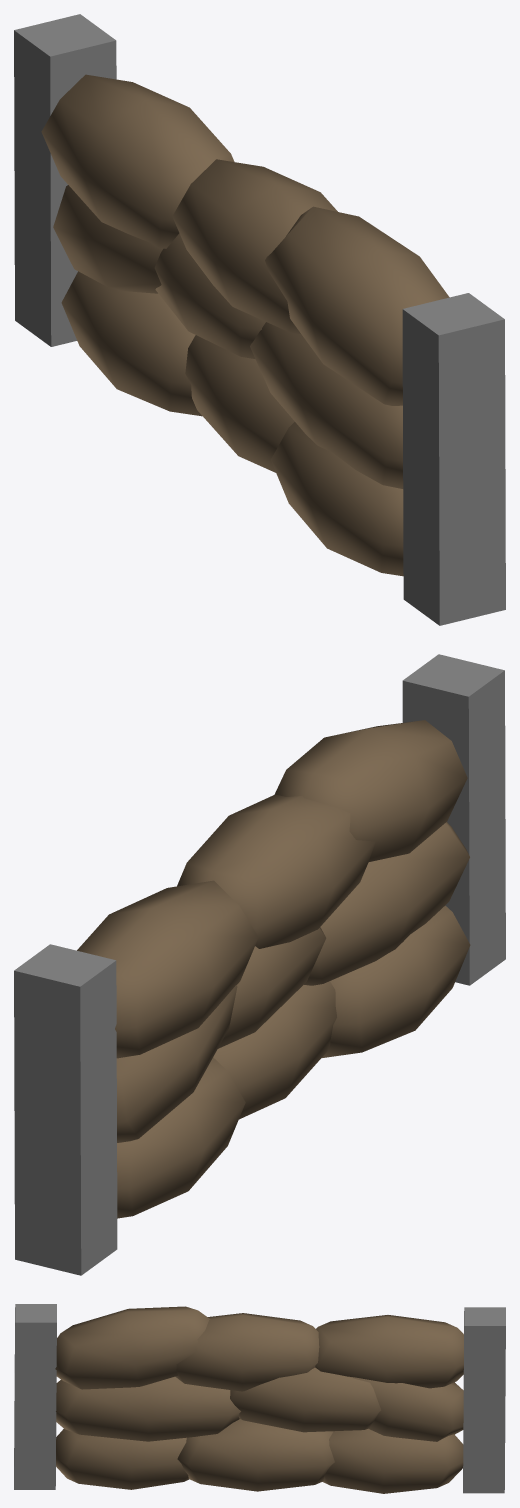
Rendered from cephe.fbx.
The picture shows the model from 3 angles, top to bottom: view 1: azimuth 30°, elevation 25°; view 2: azimuth 150°, elevation 25°; view 3: azimuth 270°, elevation 25°; orthographic projection. The views are drawn at different scales.
Visible parts, largest first — view 1: Cube, Cube.008, Cube.010, Cube.001, Cube.009, Cube.005, Cube.004, Cube.002, Cube.003, Cube.007, Cube.006; view 2: Cube.001, Cube.010, Cube, Cube.009, Cube.008, Cube.005, Cube.002, Cube.004, Cube.003, Cube.007, Cube.006; view 3: Cube.008, Cube.005, Cube.010, Cube.003, Cube.009, Cube.001, Cube, Cube.004, Cube.006, Cube.002, Cube.007.
Boxes of the visible parts, x1,y1,x2,y2 form: Cube: (402,293,505,625); Cube.008: (265,206,449,405); Cube.010: (41,74,234,248); Cube.001: (14,14,116,346); Cube.009: (172,159,337,333); Cube.005: (250,322,403,488); Cube.004: (61,271,202,416); Cube.002: (271,422,403,576); Cube.003: (185,335,294,472); Cube.007: (53,185,163,293); Cube.006: (154,233,265,358); Cube.001: (14,944,117,1275); Cube.010: (77,880,258,1058); Cube: (402,654,505,985); Cube.009: (177,794,375,948); Cube.008: (274,720,467,862); Cube.005: (304,822,469,985); Cube.002: (321,905,470,1058); Cube.004: (117,1057,245,1218); Cube.003: (213,981,336,1119); Cube.007: (116,985,237,1142); Cube.006: (218,927,326,1048); Cube.008: (55,1306,210,1389); Cube.005: (56,1376,240,1441); Cube.010: (315,1315,463,1388); Cube.003: (177,1419,334,1491); Cube.009: (175,1313,319,1391); Cube.001: (463,1307,505,1493); Cube: (14,1304,56,1489); Cube.004: (322,1428,463,1493); Cube.006: (230,1367,381,1432); Cube.002: (56,1429,189,1489); Cube.007: (348,1376,463,1441).
Bounding box in the file's own units: 189 × 380 × 949.
